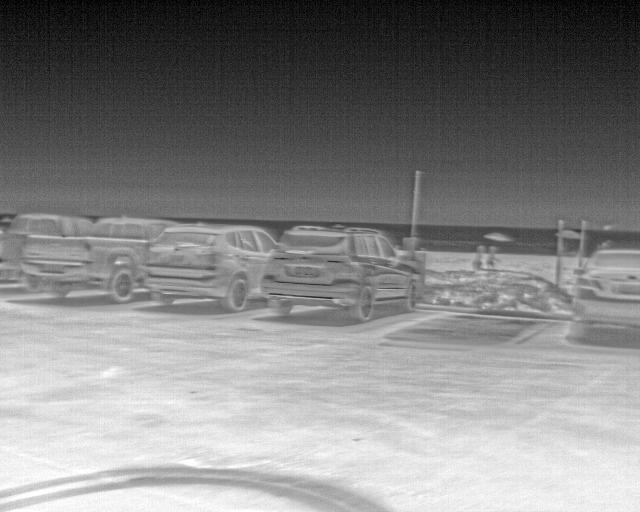bicycle: (259, 224, 421, 322), (19, 215, 182, 302), (142, 222, 277, 312), (0, 212, 95, 292), (568, 246, 639, 339)
empty: (486, 244, 500, 268), (471, 245, 484, 270)
